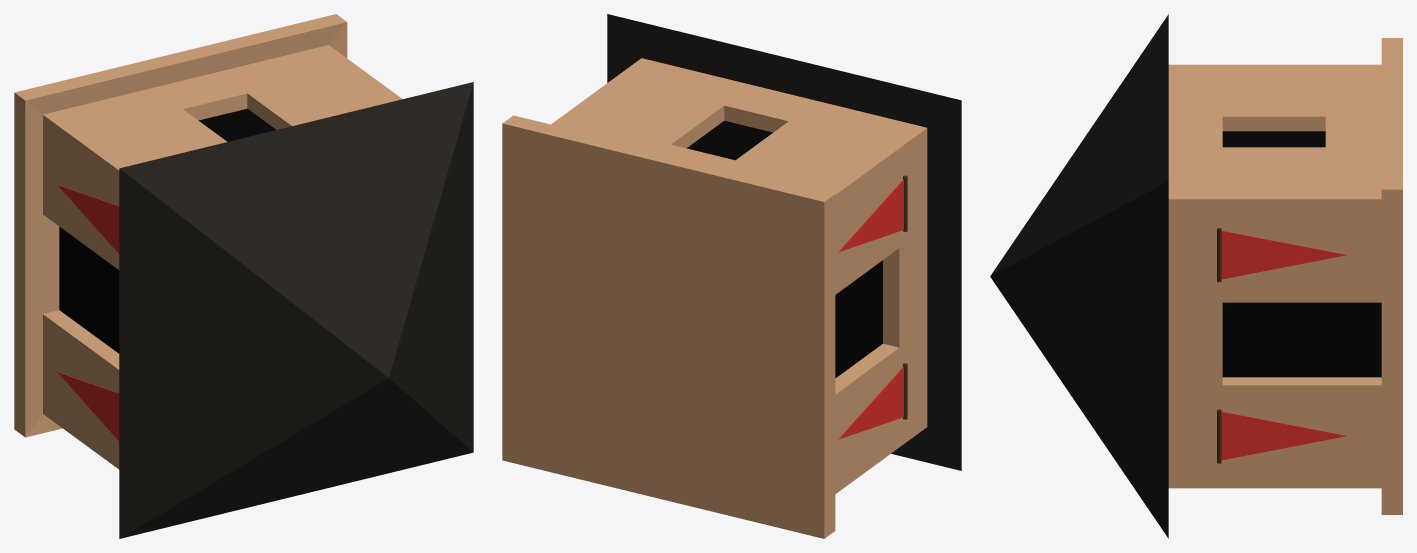
The model's file is house_red.glb.
The picture shows the model from 3 angles, left to right: view 1: azimuth 30°, elevation 25°; view 2: azimuth 150°, elevation 25°; view 3: azimuth 270°, elevation 25°; orthographic projection. The views are drawn at different scales.
Visible parts, largest first — view 1: Cube, HouseBase, Cylinder.009; view 2: HouseBase, Cube, Cylinder.009; view 3: HouseBase, Cube, Cylinder.008.
Part boxes in pixels (x1,y1,x2,y2): Cube: (119,82,473,538); HouseBase: (14,14,402,469); Cylinder.009: (58,185,119,441); HouseBase: (502,58,927,538); Cube: (607,14,961,470); Cylinder.009: (838,175,907,439); HouseBase: (1168,38,1402,514); Cube: (990,14,1168,538); Cylinder.008: (1217,228,1346,463).
Bounding box in the file's own units: 1.64 × 1.64 × 1.72.
